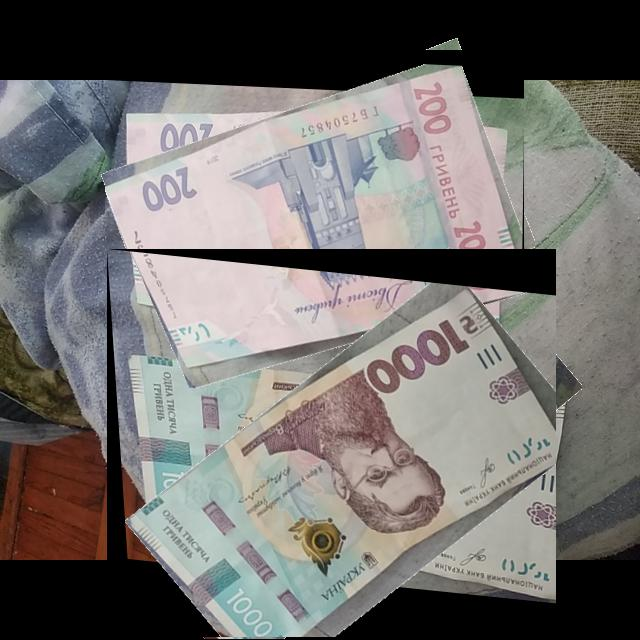1000uah: (121, 279, 557, 638)
200uah: (105, 62, 523, 361)
